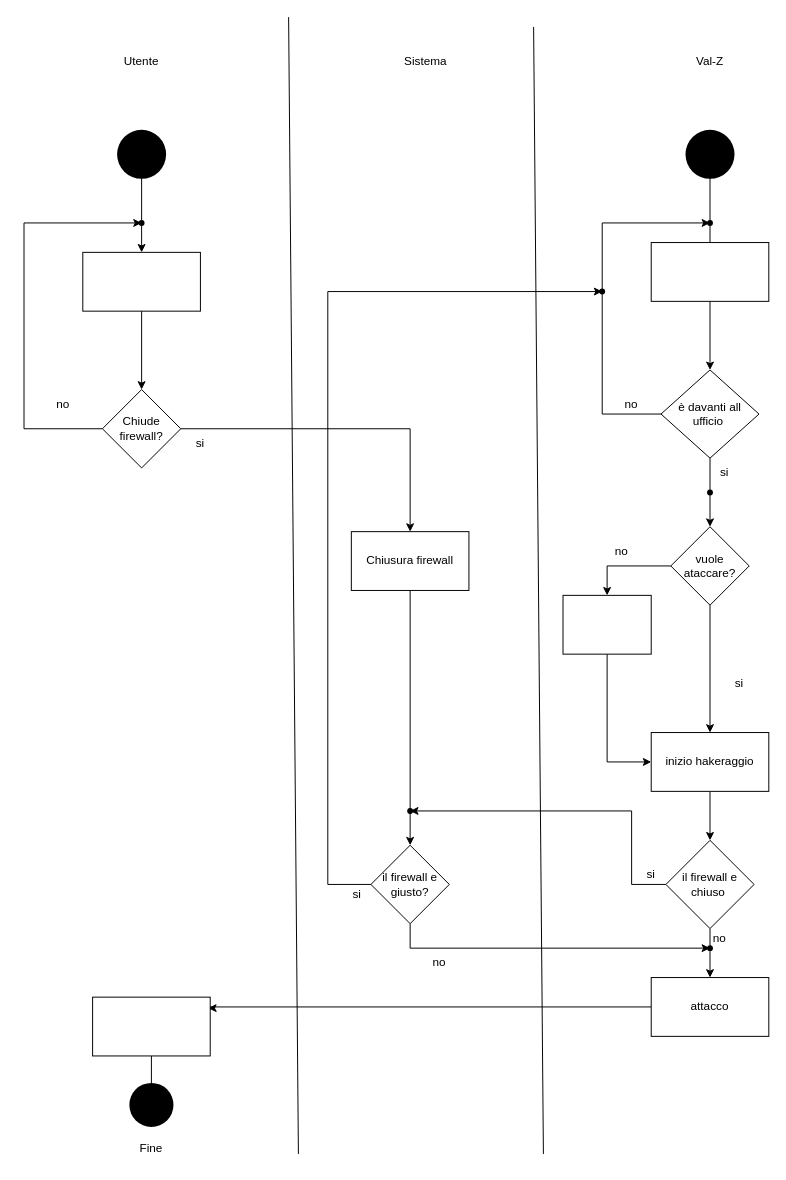
Image size: 786x1180. Some labels were removed from this diagram. Here are the shapes that lost their labels. From the top down, the centre of each, then its label:
At point (141, 281): "Guarda telecamere".
At point (709, 271): "Si sposta".
At point (606, 624): "Si sposta nella stanza di fianco".
At point (151, 1026): "visualizza attacco".
